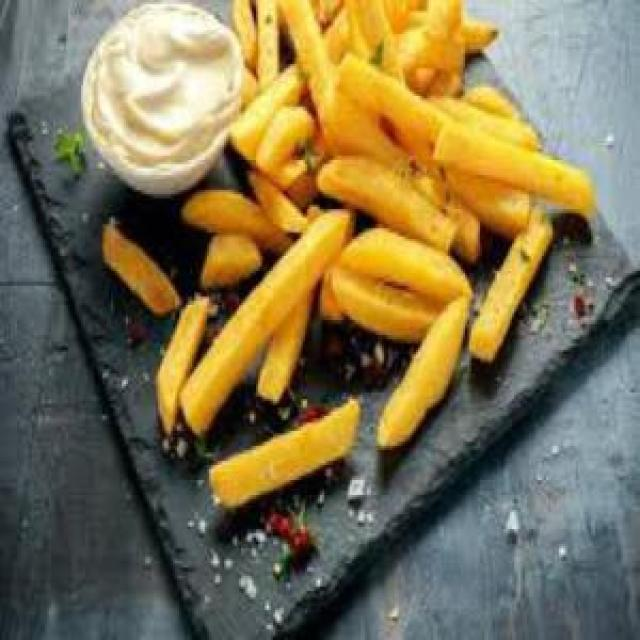French Fries: (244, 4, 639, 476)
